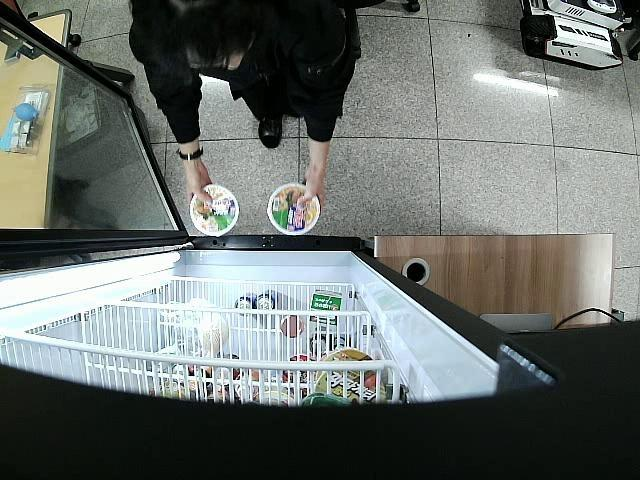09_yukGaeJang: (267, 184, 320, 236), (190, 183, 239, 236)
